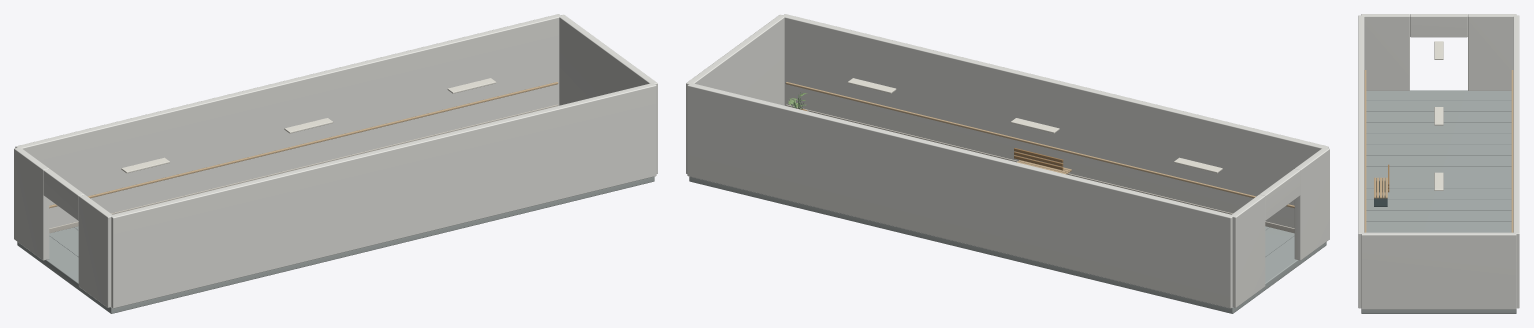
File: corridor.glb
3 views of the same model, side by side, from view 1: azimuth 30°, elevation 25°; view 2: azimuth 150°, elevation 25°; view 3: azimuth 270°, elevation 25° (orthographic). The views are drawn at different scales.
Visible parts, largest first — view 1: white, paving, oak, stone, paper; view 2: white, paving, oak, stone, paper, wood; view 3: white, paving, grout, oak, paper, metal.
Part boxes in pixels (bbox=[...]): white: bbox=[14, 14, 657, 308]; paving: bbox=[17, 176, 654, 313]; oak: bbox=[49, 82, 558, 208]; stone: bbox=[49, 104, 557, 233]; paper: bbox=[121, 78, 496, 173]; white: bbox=[686, 14, 1329, 308]; paving: bbox=[689, 176, 1326, 313]; oak: bbox=[785, 82, 1294, 208]; stone: bbox=[786, 104, 1294, 233]; paper: bbox=[847, 78, 1222, 173]; wood: bbox=[800, 108, 1063, 170]; white: bbox=[1358, 14, 1519, 309]; paving: bbox=[1361, 90, 1516, 313]; grout: bbox=[1366, 100, 1511, 221]; oak: bbox=[1364, 70, 1513, 232]; paper: bbox=[1434, 41, 1443, 190]; metal: bbox=[1374, 180, 1387, 206].
Bounding box in the file's own units: 20.24 × 3.44 × 6.24.
